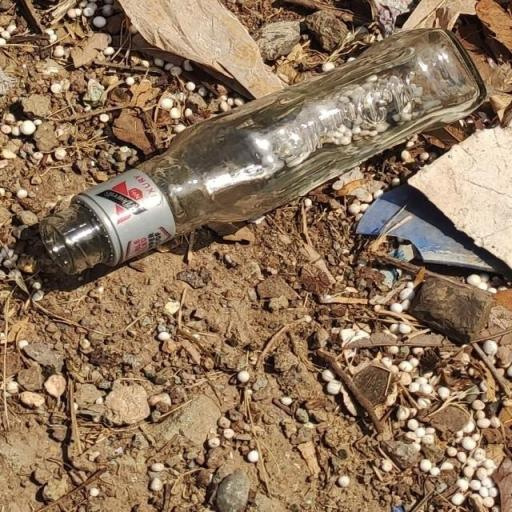glass: (41, 35, 478, 278)
